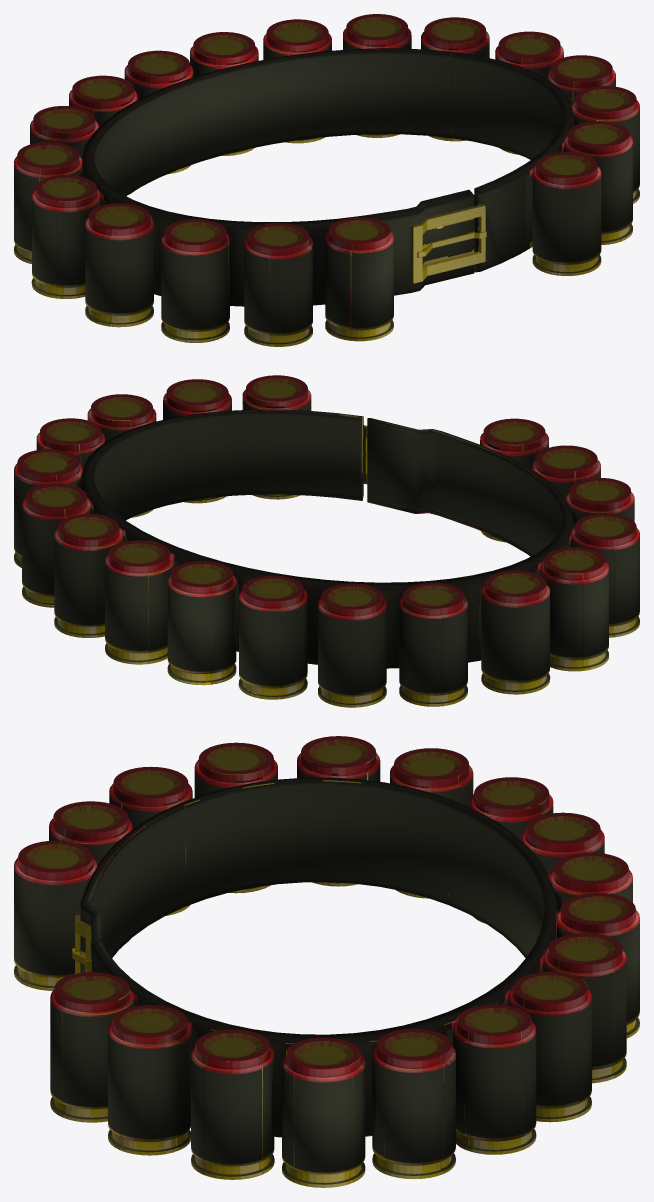
Rendered from BandaEscopeta.fbx.
3 views of the same model, one above another, from view 1: azimuth 30°, elevation 25°; view 2: azimuth 150°, elevation 25°; view 3: azimuth 270°, elevation 25° (orthographic). The views are drawn at different scales.
Visible parts, largest first — view 1: BandaEscoOPT; view 2: BandaEscoOPT; view 3: BandaEscoOPT.
Part boxes in pixels (box(x1,y1,x2,y2)): BandaEscoOPT: box(14, 14, 639, 346); BandaEscoOPT: box(14, 375, 639, 707); BandaEscoOPT: box(14, 736, 639, 1187).
Bounding box in the file's own units: 2181 × 353 × 1714.
Materials: 1 (1 with a texture image).
